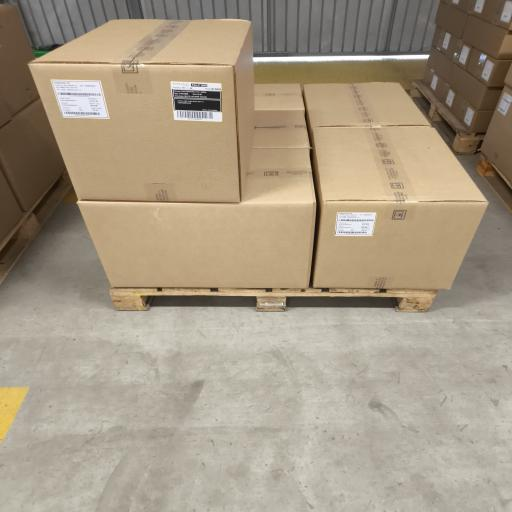pallet: (111, 288, 437, 312), (0, 174, 71, 283), (410, 81, 484, 155), (477, 155, 511, 212)
